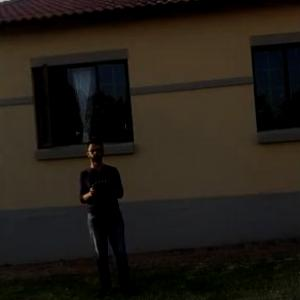follow: (79, 134, 141, 299)
